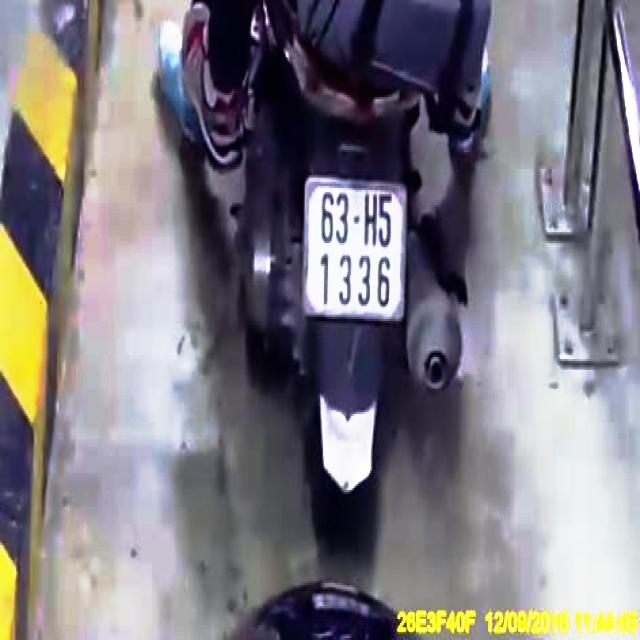license_plate: (300, 178, 405, 321)
